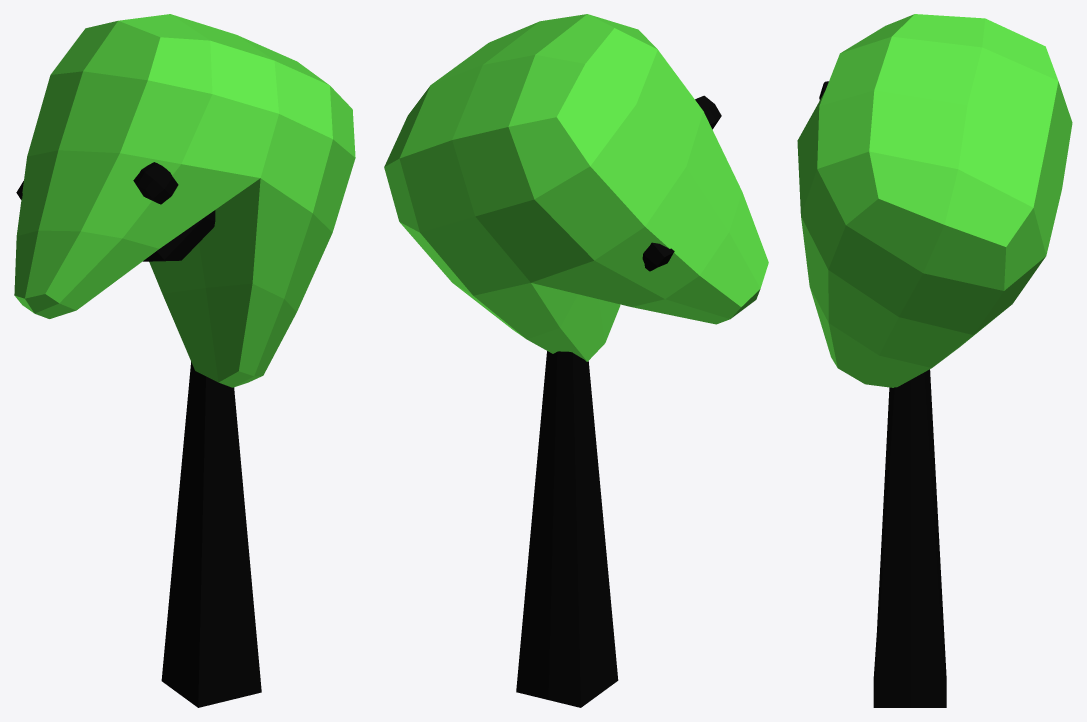
File: Arbre 3.fbx
3 views of the same model, side by side, from view 1: azimuth 30°, elevation 25°; view 2: azimuth 150°, elevation 25°; view 3: azimuth 270°, elevation 25° (orthographic). The views are drawn at different scales.
Visible parts, largest first — view 1: arbre 3; view 2: arbre 3; view 3: arbre 3.
Boxes of the visible parts, x1,y1,x2,y2 form: arbre 3: (14, 14, 355, 707); arbre 3: (384, 14, 768, 707); arbre 3: (797, 14, 1072, 707).
Size of the model in its own units: 640 by 1232 by 469.
